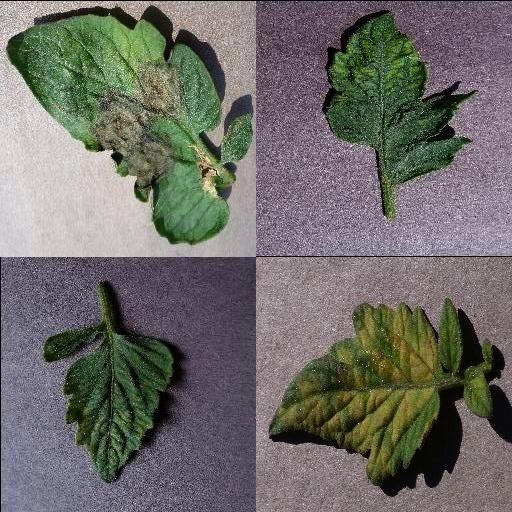Late Blight: (5, 11, 229, 245)
Leaf Mold: (266, 295, 464, 485)
Mosaic Virus: (323, 11, 481, 183), (43, 325, 176, 484)
